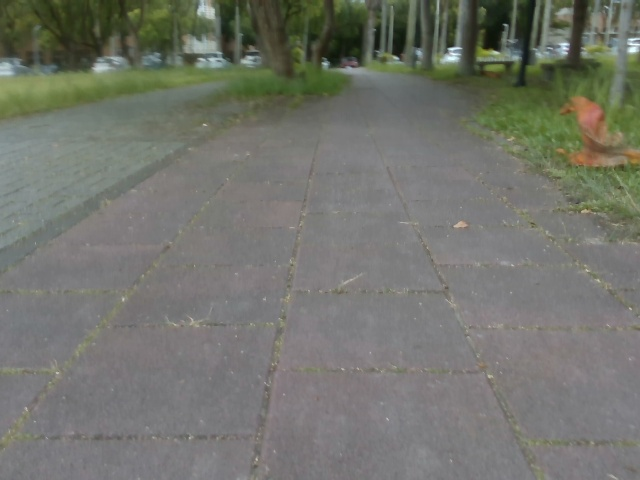grass: (0, 0, 639, 77), (364, 50, 639, 225), (0, 66, 351, 125)
road: (0, 71, 639, 479)
